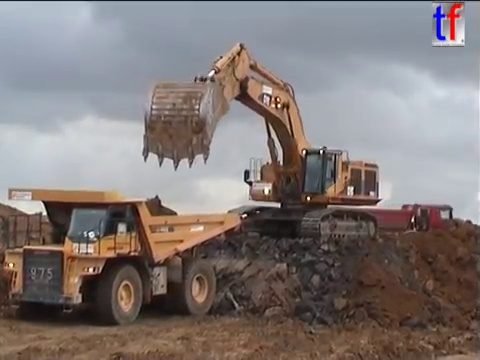excavator: (139, 40, 385, 249)
truck: (1, 186, 244, 327), (332, 201, 459, 246)
